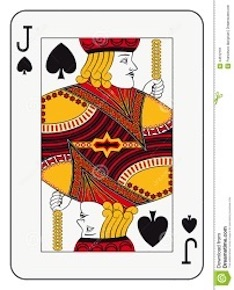JackOfSpades: (6, 7, 208, 285)
